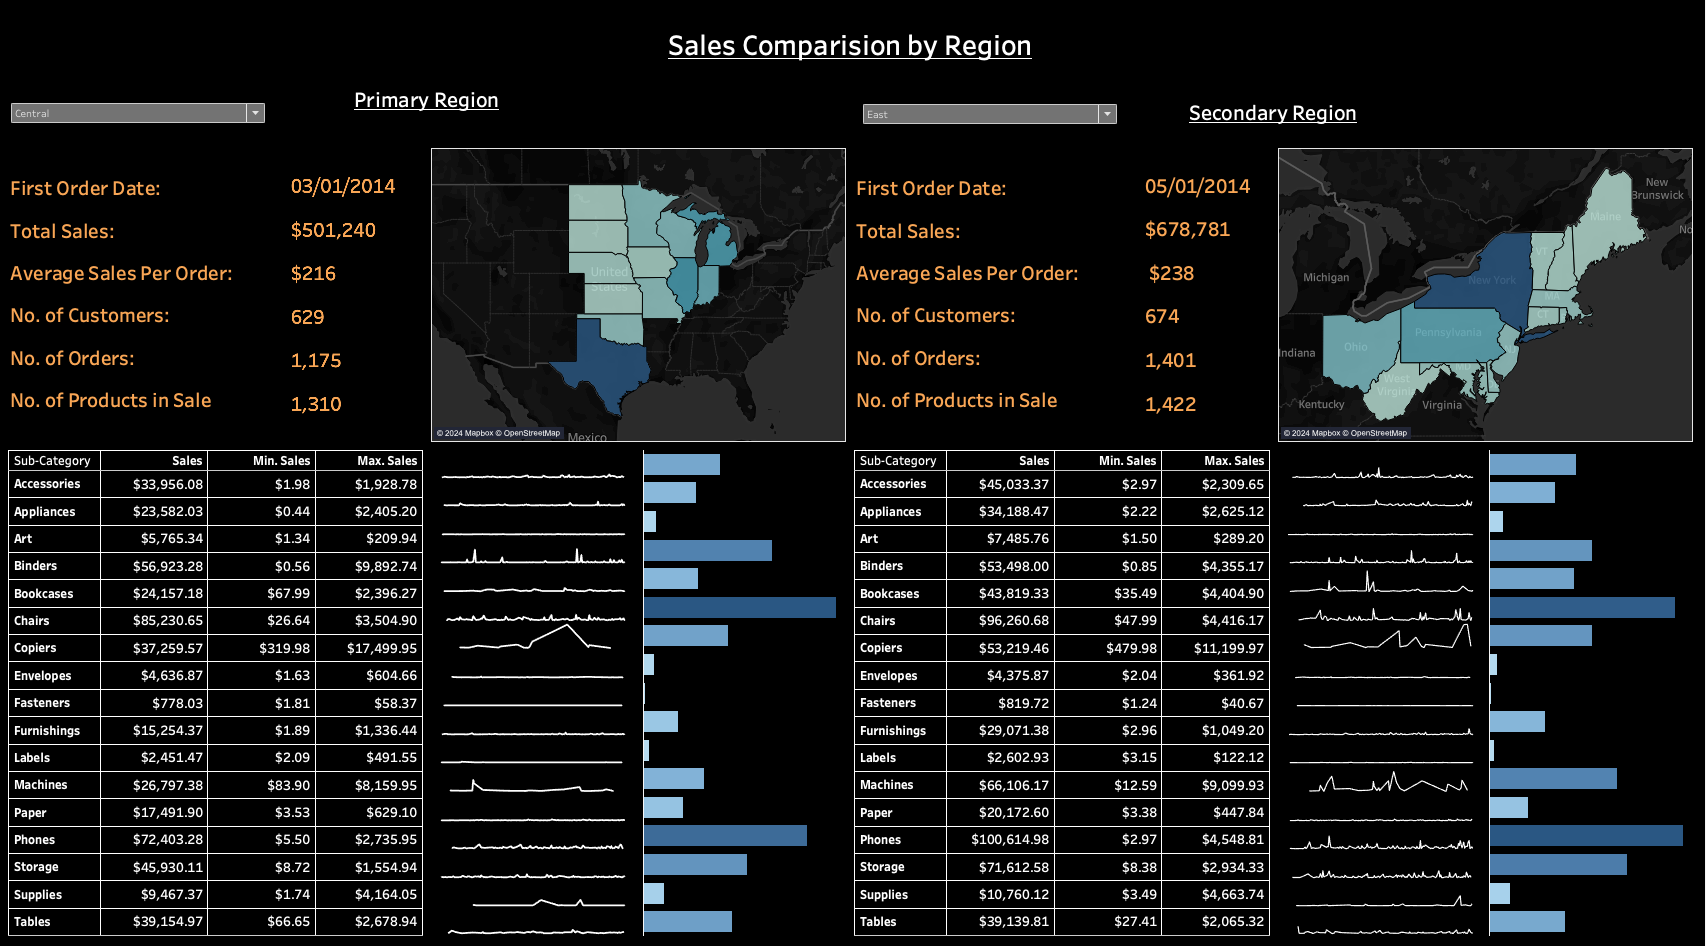

Layout of this report page (visuals, bound fields, positions):
{"tool":"tableau","page":{"name":"Dashboard 1","canvas":[1000,1000],"units":"permille","ordinal":0},"visuals":[{"type":"text","box":[4.7,8.9,990.6,77.1]},{"type":"text","box":[4.7,86,495,40.2]},{"type":"text","box":[499.6,86,495.7,65.9]},{"type":"filter","title":"Pr Map","param":"[federated.1qbh74j0n27fcj19ude520g6msy5].[none:Region:nk]","box":[7.1,105,152.2,41.3]},{"type":"filter","title":"Sec. Map","param":"[federated.1qbh74j0n27fcj19ude520g6msy5].[none:Region:nk]","box":[505.6,106.2,152.2,32.4]},{"type":"text","box":[4.7,152,162.8,318.4]},{"type":"worksheet","title":"PrMeasure","mark":"Automatic","box":[167.5,152,84.8,318.4]},{"type":"worksheet","title":"Pr Map","mark":"Automatic","box":[252.3,152,247.4,318.4]},{"type":"text","box":[499.7,152,167.9,318.4]},{"type":"worksheet","title":"Sec.Measure ","mark":"Automatic","box":[667.6,152,80.2,318.4]},{"type":"worksheet","title":"Sec. Map","mark":"Automatic","box":[747.6,152,247.7,318.4]},{"type":"worksheet","title":"Pr Region Sales","mark":"Automatic","rows":["Sub-Category"],"box":[4.7,470.4,247.7,520.7]},{"type":"worksheet","title":"Pr Sales Line","mark":"Automatic","rows":["Sub-Category","Sales"],"cols":["Order Date"],"box":[252.3,470.4,123.7,520.7]},{"type":"worksheet","title":"Pr Sales Chart","mark":"Automatic","rows":["Sub-Category"],"cols":["Sales"],"box":[376,470.4,123.7,520.7]},{"type":"worksheet","title":"Sec.Region Sales","mark":"Automatic","rows":["Sub-Category"],"box":[499.7,470.4,247.9,520.6]},{"type":"worksheet","title":"Sec. Sales Line","mark":"Automatic","rows":["Sub-Category","Sales"],"cols":["Order Date"],"box":[747.6,470.4,123.9,520.7]},{"type":"worksheet","title":"Sec. Sales Chart","mark":"Automatic","rows":["Sub-Category"],"cols":["Sales"],"box":[871.5,470.4,123.9,520.7]}]}

Visuals, with their boxes on the dashboard's canvas, which has no fixed pixel size, in thousandths of its width and height (x1, y1, x2, y2). These are canvas units, not pixel positions in the 1706x946 screenshot, which may show the page scaled, cropped or inside an application window:
text: l=5, t=9, r=995, b=86
text: l=5, t=86, r=500, b=126
text: l=500, t=86, r=995, b=152
"Pr Map" filter: l=7, t=105, r=159, b=146
"Sec. Map" filter: l=506, t=106, r=658, b=139
text: l=5, t=152, r=168, b=470
"PrMeasure" worksheet: l=168, t=152, r=252, b=470
"Pr Map" worksheet: l=252, t=152, r=500, b=470
text: l=500, t=152, r=668, b=470
"Sec.Measure " worksheet: l=668, t=152, r=748, b=470
"Sec. Map" worksheet: l=748, t=152, r=995, b=470
"Pr Region Sales" worksheet: l=5, t=470, r=252, b=991
"Pr Sales Line" worksheet: l=252, t=470, r=376, b=991
"Pr Sales Chart" worksheet: l=376, t=470, r=500, b=991
"Sec.Region Sales" worksheet: l=500, t=470, r=748, b=991
"Sec. Sales Line" worksheet: l=748, t=470, r=872, b=991
"Sec. Sales Chart" worksheet: l=872, t=470, r=995, b=991
